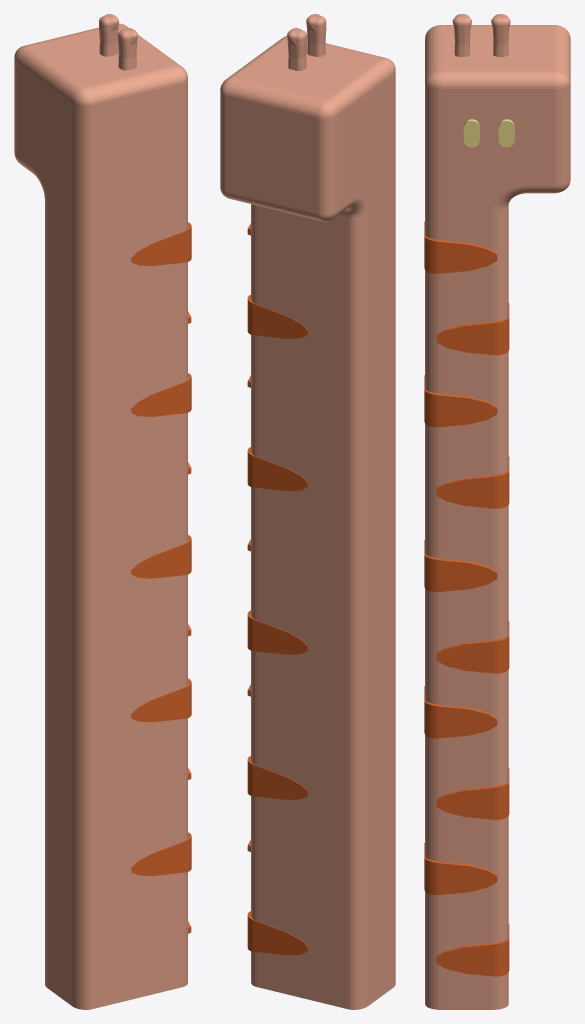
The model's file is 长颈鹿0810-3.dae.
3 views of the same model, side by side, from view 1: azimuth 30°, elevation 25°; view 2: azimuth 150°, elevation 25°; view 3: azimuth 270°, elevation 25° (orthographic).
Visible parts, largest first — view 1: 立方体.002; view 2: 立方体.002; view 3: 立方体.002.
Boxes of the visible parts, x1,y1,x2,y2 form: 立方体.002: (14,14,191,1009); 立方体.002: (220,14,395,1009); 立方体.002: (424,14,570,1009).
Bounding box in the file's own units: 1.29 × 1.38 × 10.08.
